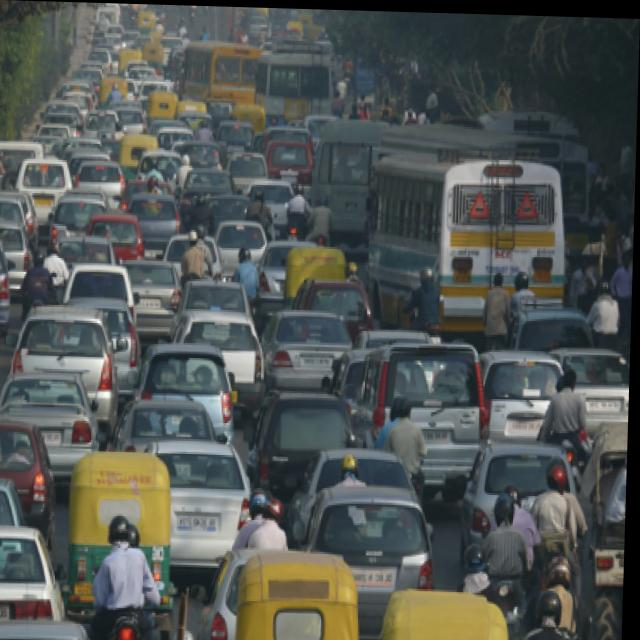licence: (182, 510, 223, 530), (356, 568, 399, 586), (425, 422, 454, 444), (507, 413, 546, 429)
